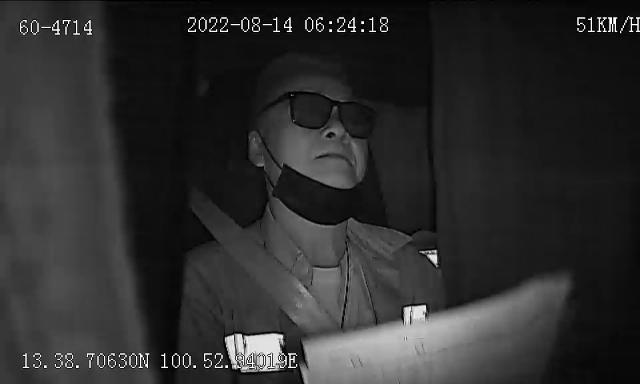Seatbelt: (189, 191, 351, 343)
